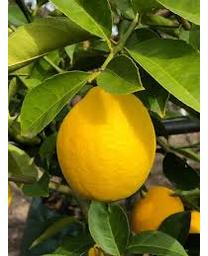lemon: (58, 87, 155, 203)
